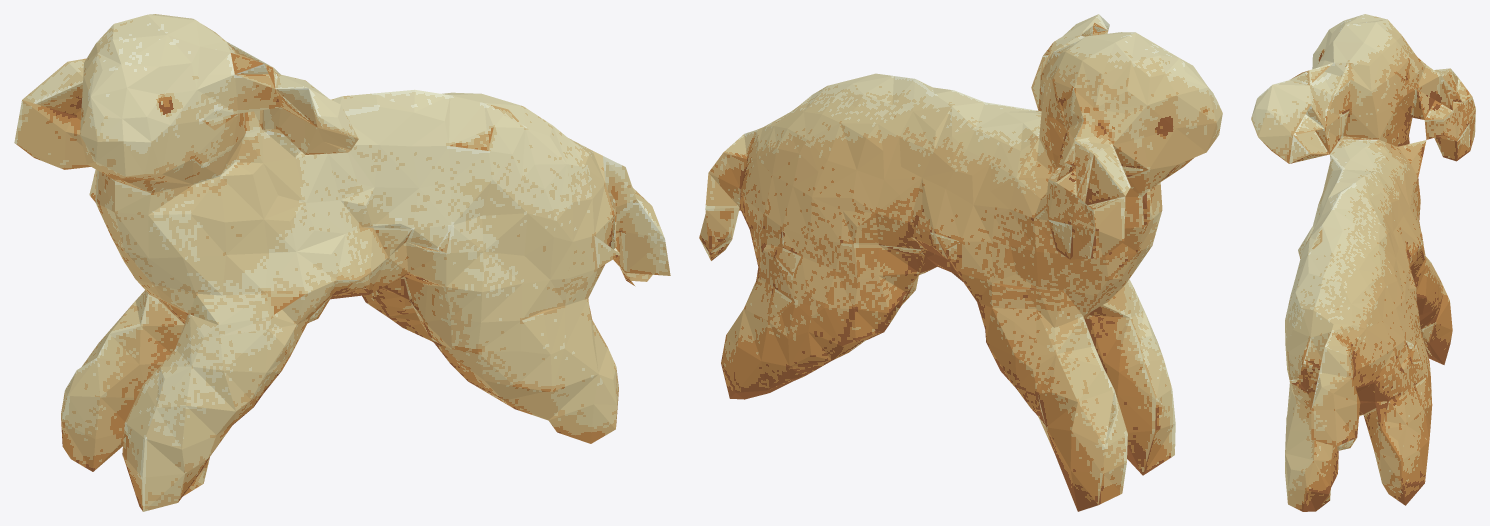
The model's file is lamb.glb.
3 renders of one model, left to right at view 1: azimuth 30°, elevation 25°; view 2: azimuth 150°, elevation 25°; view 3: azimuth 270°, elevation 25°, orthographic. The views are drawn at different scales.
Parts seen in each view (by area): view 1: model_m; view 2: model_m; view 3: model_m.
Boxes of the visible parts, box(x1,y1,x2,y2) form: model_m: box(14, 14, 670, 511); model_m: box(699, 14, 1222, 511); model_m: box(1251, 14, 1475, 511).
Size of the model in its own units: 34.89 by 28.03 by 16.44.
1 material, 1 textured.
